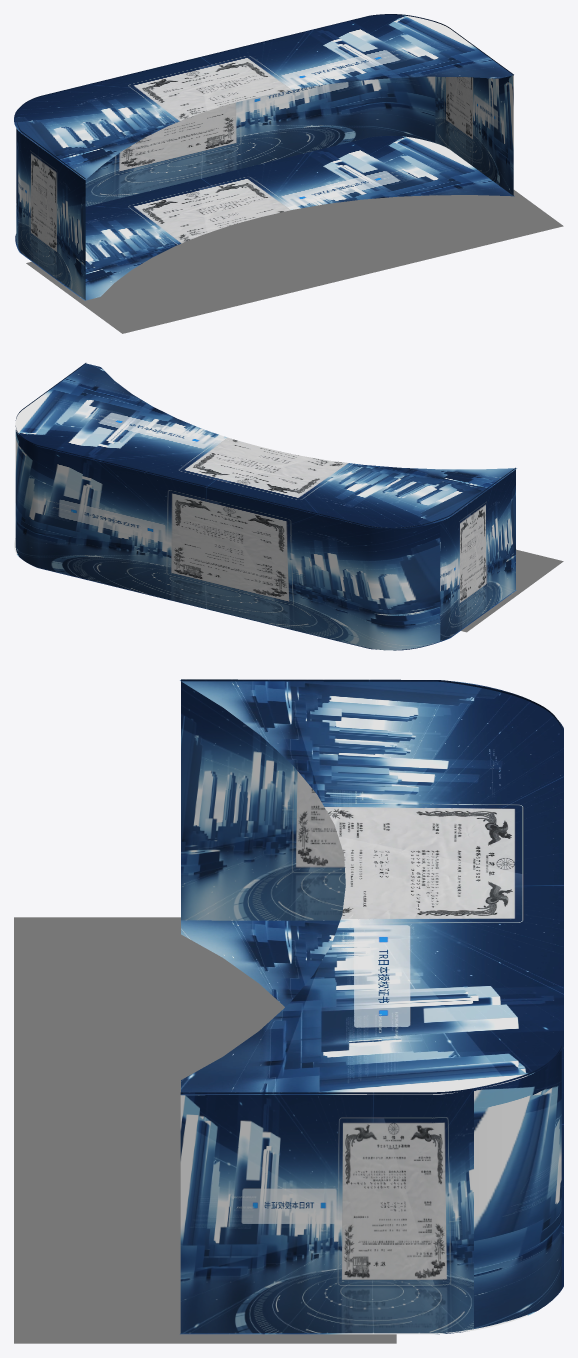
Rendered from 全息厅投影模型.fbx.
3 views of the same model, one above another, from view 1: azimuth 30°, elevation 25°; view 2: azimuth 150°, elevation 25°; view 3: azimuth 270°, elevation 25° (orthographic). The views are drawn at different scales.
Visible parts, largest first — view 1: 里面屏, 地板, 天幕, 地屏; view 2: 里面屏, 天幕, 地板, 地屏; view 3: 里面屏, 天幕, 地板, 地屏.
Boxes of the visible parts, left/top/right/bottom form: 里面屏: left=16, top=14, right=513, bottom=299; 地板: left=26, top=190, right=563, bottom=333; 天幕: left=14, top=15, right=513, bottom=179; 地屏: left=15, top=136, right=514, bottom=300; 里面屏: left=15, top=363, right=515, bottom=650; 天幕: left=15, top=363, right=516, bottom=528; 地板: left=461, top=549, right=563, bottom=632; 地屏: left=14, top=538, right=516, bottom=650; 里面屏: left=180, top=679, right=561, bottom=1333; 天幕: left=180, top=680, right=563, bottom=1095; 地板: left=14, top=917, right=396, bottom=1343; 地屏: left=180, top=920, right=563, bottom=1334.
Bounding box in the file's own units: 13829 × 3682 × 7541.
2 materials, 1 textured.
